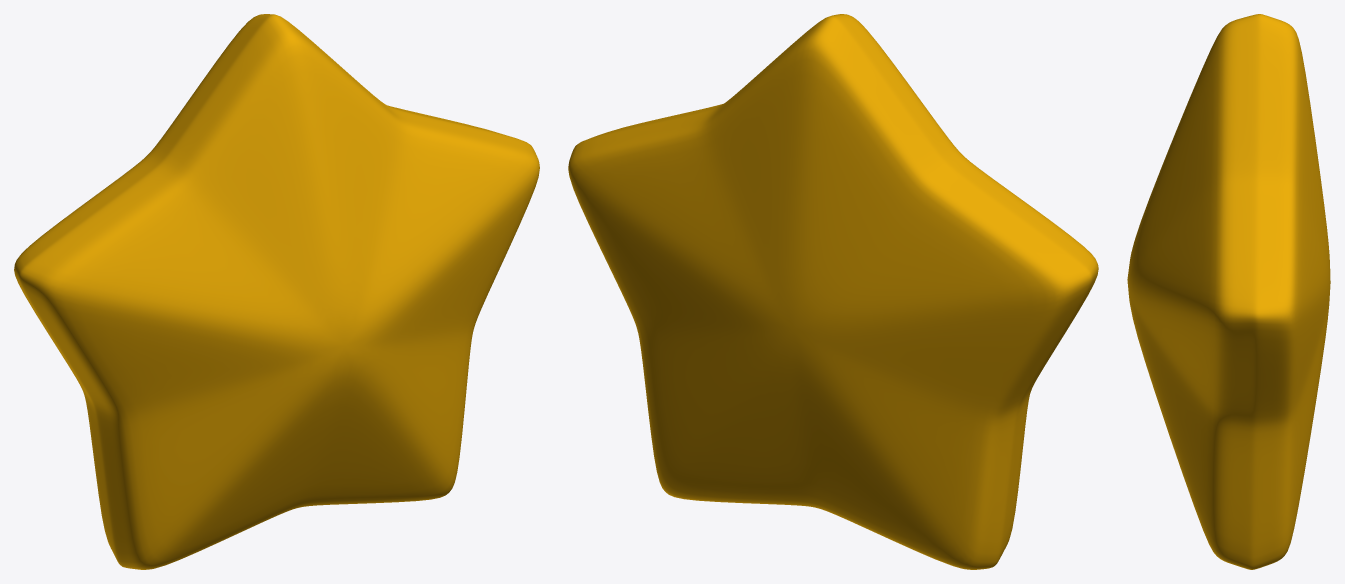
File: star.glb
3 views of the same model, side by side, from view 1: azimuth 30°, elevation 25°; view 2: azimuth 150°, elevation 25°; view 3: azimuth 270°, elevation 25° (orthographic). The views are drawn at different scales.
Parts seen in each view (by area): view 1: Star; view 2: Star; view 3: Star.
Part boxes in pixels (x1,y1,x2,y2): Star: (14,14,539,569); Star: (568,14,1098,569); Star: (1127,14,1330,569).
Bounding box in the file's own units: 3.52 × 3.36 × 1.28.
